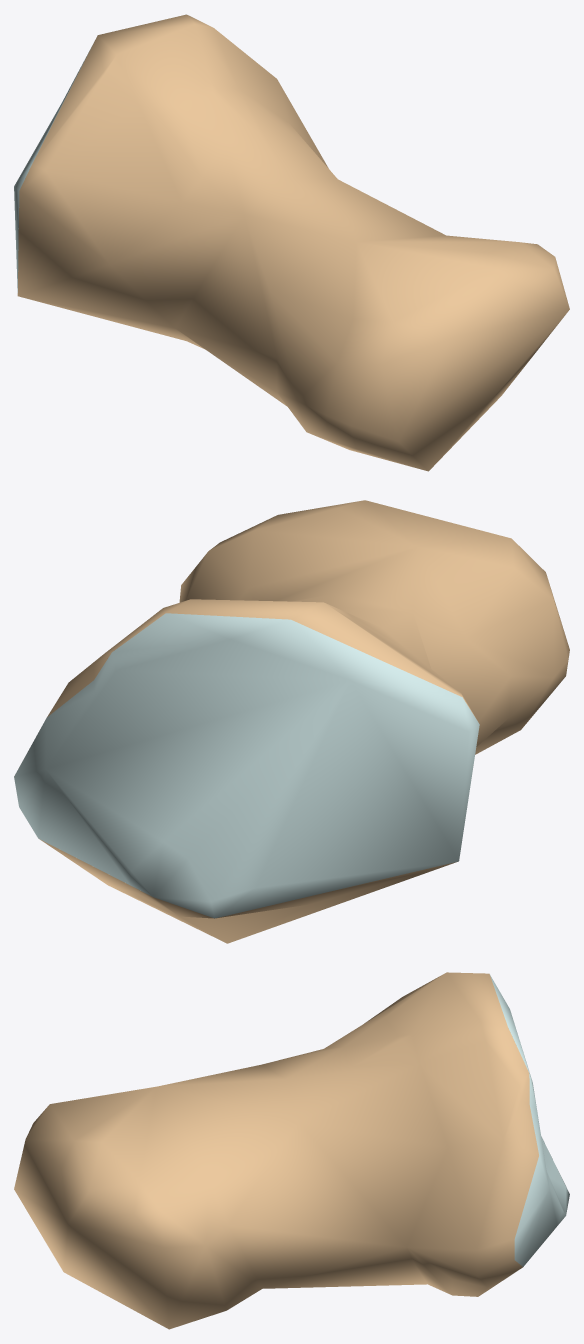
Rendered from Distal_phalanx_of_2d_finger_of_foot.l_Generated_Mesh_From_X3D.8.glb.
3 views of the same model, one above another, from view 1: azimuth 30°, elevation 25°; view 2: azimuth 150°, elevation 25°; view 3: azimuth 270°, elevation 25° (orthographic). The views are drawn at different scales.
Visible parts, largest first — view 1: Distal_phalanx_of_2d_finger_of_foot.l_Generated_Mesh_From_X3; view 2: Distal_phalanx_of_2d_finger_of_foot.l_Generated_Mesh_From_X3; view 3: Distal_phalanx_of_2d_finger_of_foot.l_Generated_Mesh_From_X3.
Part boxes in pixels (<box>): Distal_phalanx_of_2d_finger_of_foot.l_Generated_Mesh_From_X3: <box>14,14,569,471</box>; Distal_phalanx_of_2d_finger_of_foot.l_Generated_Mesh_From_X3: <box>14,500,569,943</box>; Distal_phalanx_of_2d_finger_of_foot.l_Generated_Mesh_From_X3: <box>14,972,569,1329</box>.
Bounding box in the file's own units: 0.0102 × 0.00758 × 0.0137.
